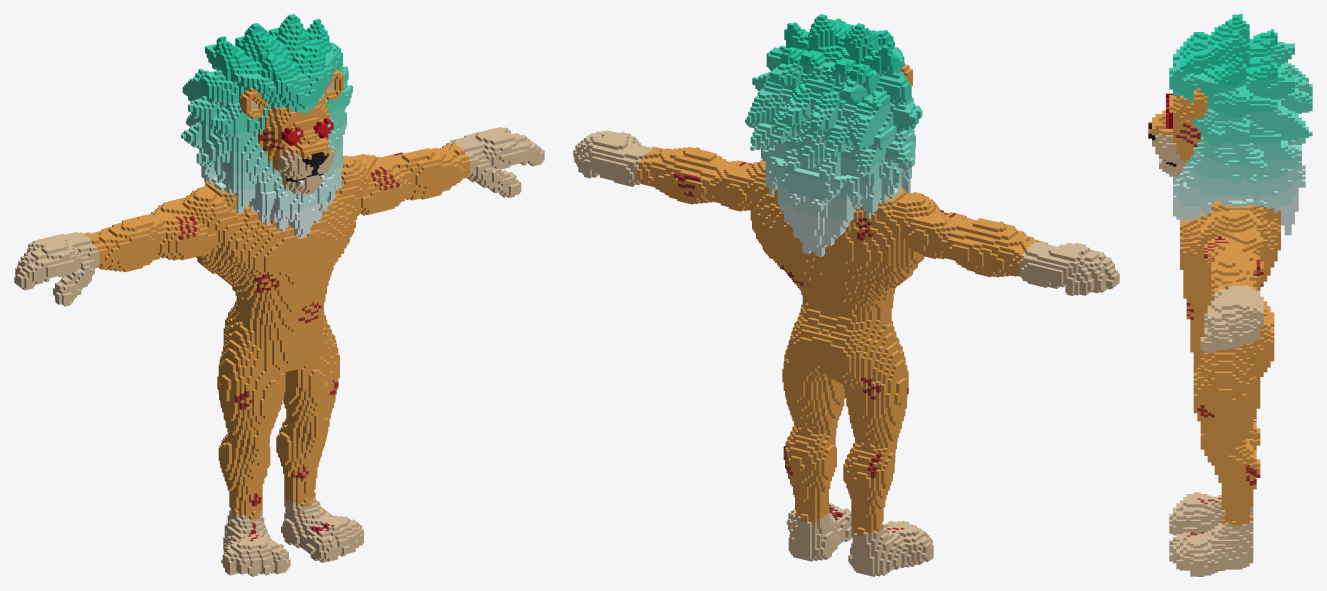
The model's file is 120-qZrpFGtc.glb.
3 views of the same model, side by side, from view 1: azimuth 30°, elevation 25°; view 2: azimuth 150°, elevation 25°; view 3: azimuth 270°, elevation 25° (orthographic). The views are drawn at different scales.
Parts seen in each view (by area): view 1: standard; view 2: standard; view 3: standard.
Part boxes in pixels (<box>): standard: <box>14,14,544,576</box>; standard: <box>573,14,1119,576</box>; standard: <box>1148,14,1312,576</box>.
Size of the model in its own units: 17.2 by 16.5 by 4.7.
Materials: 4 (4 with a texture image).
